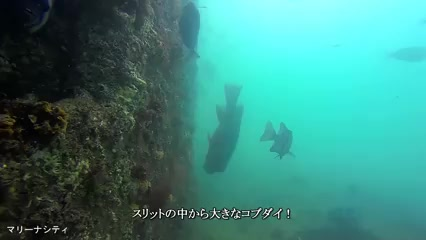smallfish: (203, 78, 251, 173), (257, 114, 303, 161)
